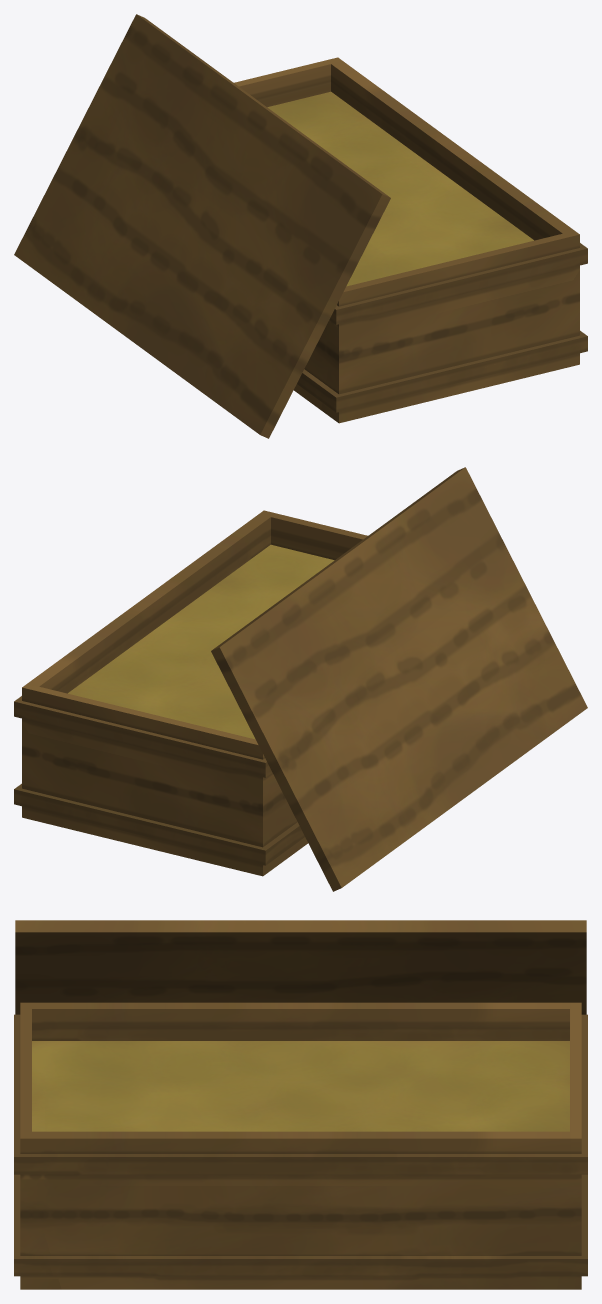
The model's file is AmmoBox.fbx.
3 renders of one model, top to bottom at view 1: azimuth 30°, elevation 25°; view 2: azimuth 150°, elevation 25°; view 3: azimuth 270°, elevation 25°, orthographic. The views are drawn at different scales.
Parts seen in each view (by area): view 1: AmmoBox2, AmmoBox; view 2: AmmoBox2, AmmoBox; view 3: AmmoBox, AmmoBox2.
Part boxes in pixels (x1=…): AmmoBox2: x1=14, y1=14, x2=390, y2=438; AmmoBox: x1=234, y1=57, x2=587, y2=423; AmmoBox2: x1=211, y1=467, x2=587, y2=891; AmmoBox: x1=14, y1=510, x2=367, y2=876; AmmoBox: x1=14, y1=1002, x2=587, y2=1289; AmmoBox2: x1=15, y1=920, x2=586, y2=1014.
Bounding box in the file's own units: 121 × 78.12 × 159.
